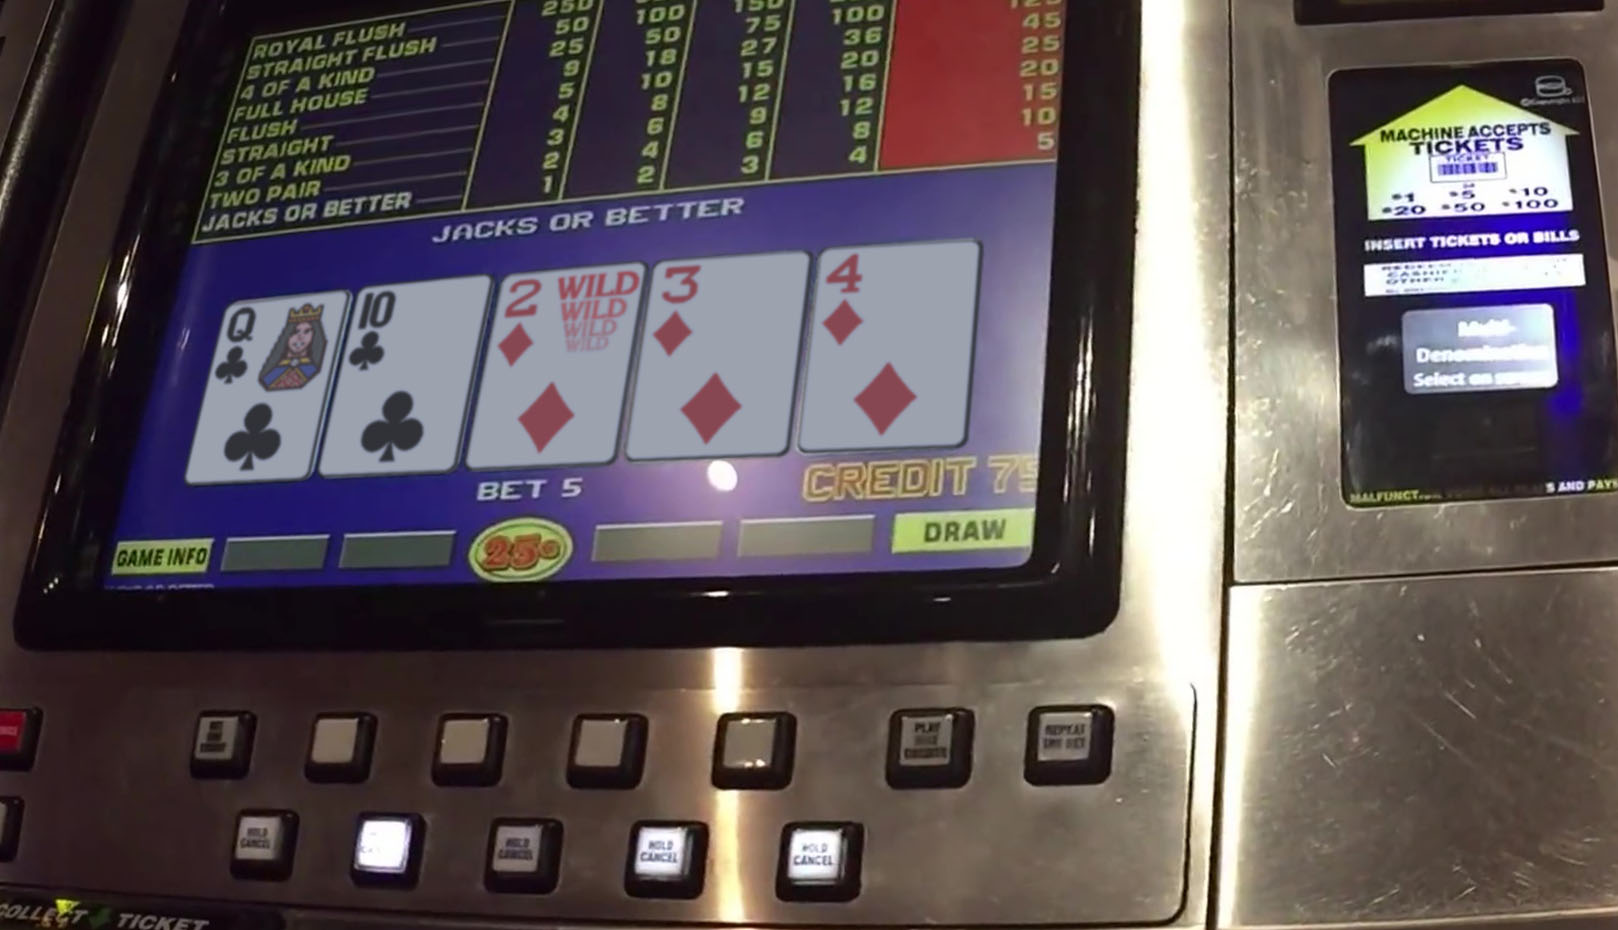CQ: (214, 296, 334, 477)
CT: (344, 280, 477, 471)
D2W: (485, 268, 635, 464)
D3: (645, 256, 792, 460)
D4: (821, 248, 965, 444)
